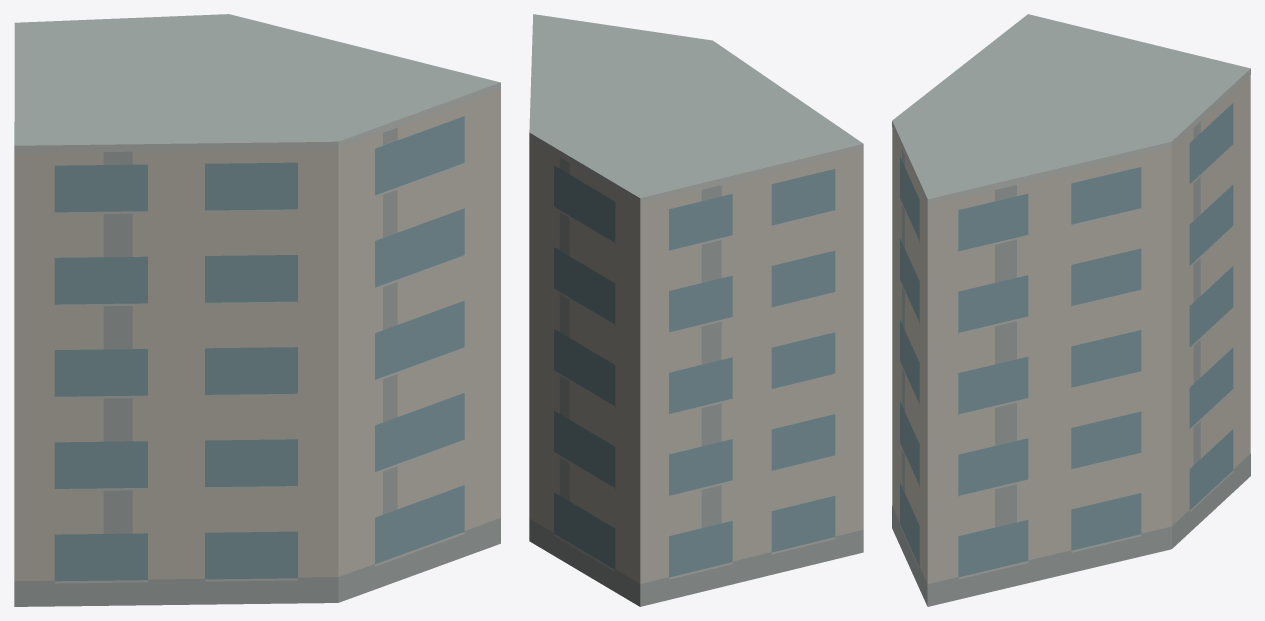
File: survey-upis-32838996.glb
3 views of the same model, side by side, from view 1: azimuth 30°, elevation 25°; view 2: azimuth 150°, elevation 25°; view 3: azimuth 270°, elevation 25° (orthographic). The views are drawn at different scales.
Parts seen in each view (by area): view 1: survey-upis-32838996.tmp; view 2: survey-upis-32838996.tmp; view 3: survey-upis-32838996.tmp.
Part boxes in pixels (box(x1,y1,x2,y2)): survey-upis-32838996.tmp: box(14, 14, 500, 606); survey-upis-32838996.tmp: box(529, 14, 863, 606); survey-upis-32838996.tmp: box(892, 14, 1250, 606).
Bounding box in the file's own units: 14.73 × 15.1 × 12.05.
